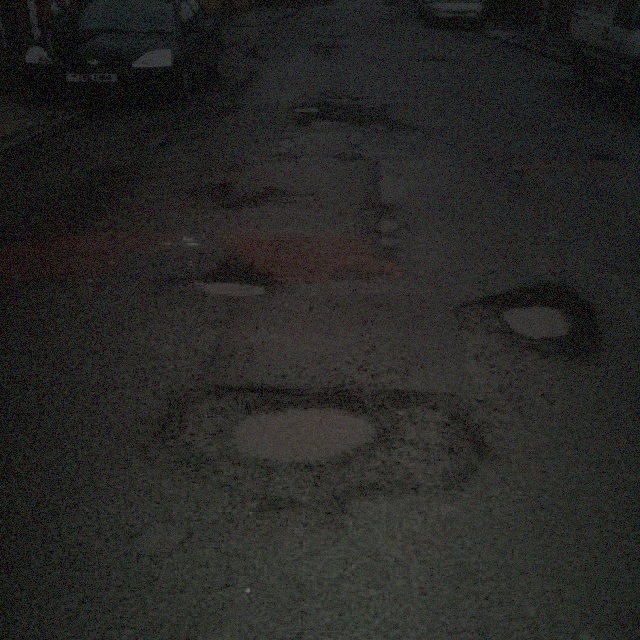pothole: (139, 382, 486, 501), (476, 278, 602, 360), (288, 99, 386, 130), (186, 267, 275, 299)
